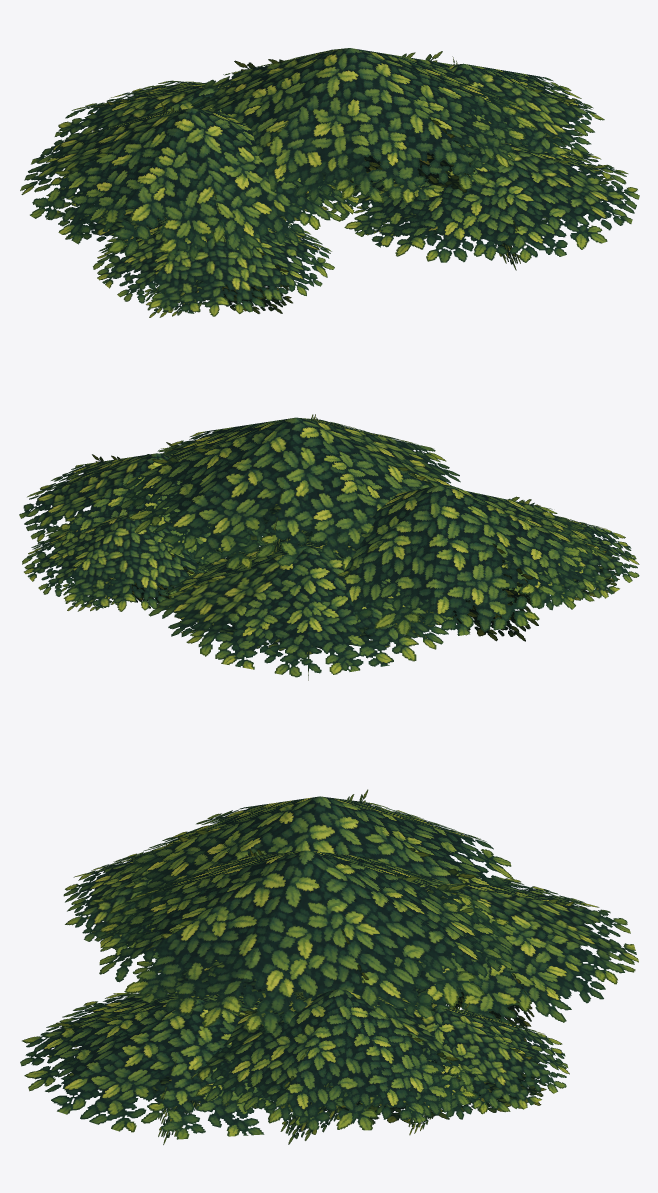
The model's file is Cespuglio_02_Largo.obj.
3 views of the same model, one above another, from view 1: azimuth 30°, elevation 25°; view 2: azimuth 150°, elevation 25°; view 3: azimuth 270°, elevation 25° (orthographic). The views are drawn at different scales.
Visible parts, largest first — view 1: Cespuglio_02_Largo; view 2: Cespuglio_02_Largo; view 3: Cespuglio_02_Largo.
Boxes of the visible parts, x1=… form: Cespuglio_02_Largo: x1=20, y1=48, x2=639, y2=317; Cespuglio_02_Largo: x1=19, y1=414, x2=639, y2=680; Cespuglio_02_Largo: x1=20, y1=789, x2=638, y2=1144.
Size of the model in its own units: 2.72 by 0.85 by 2.32.
